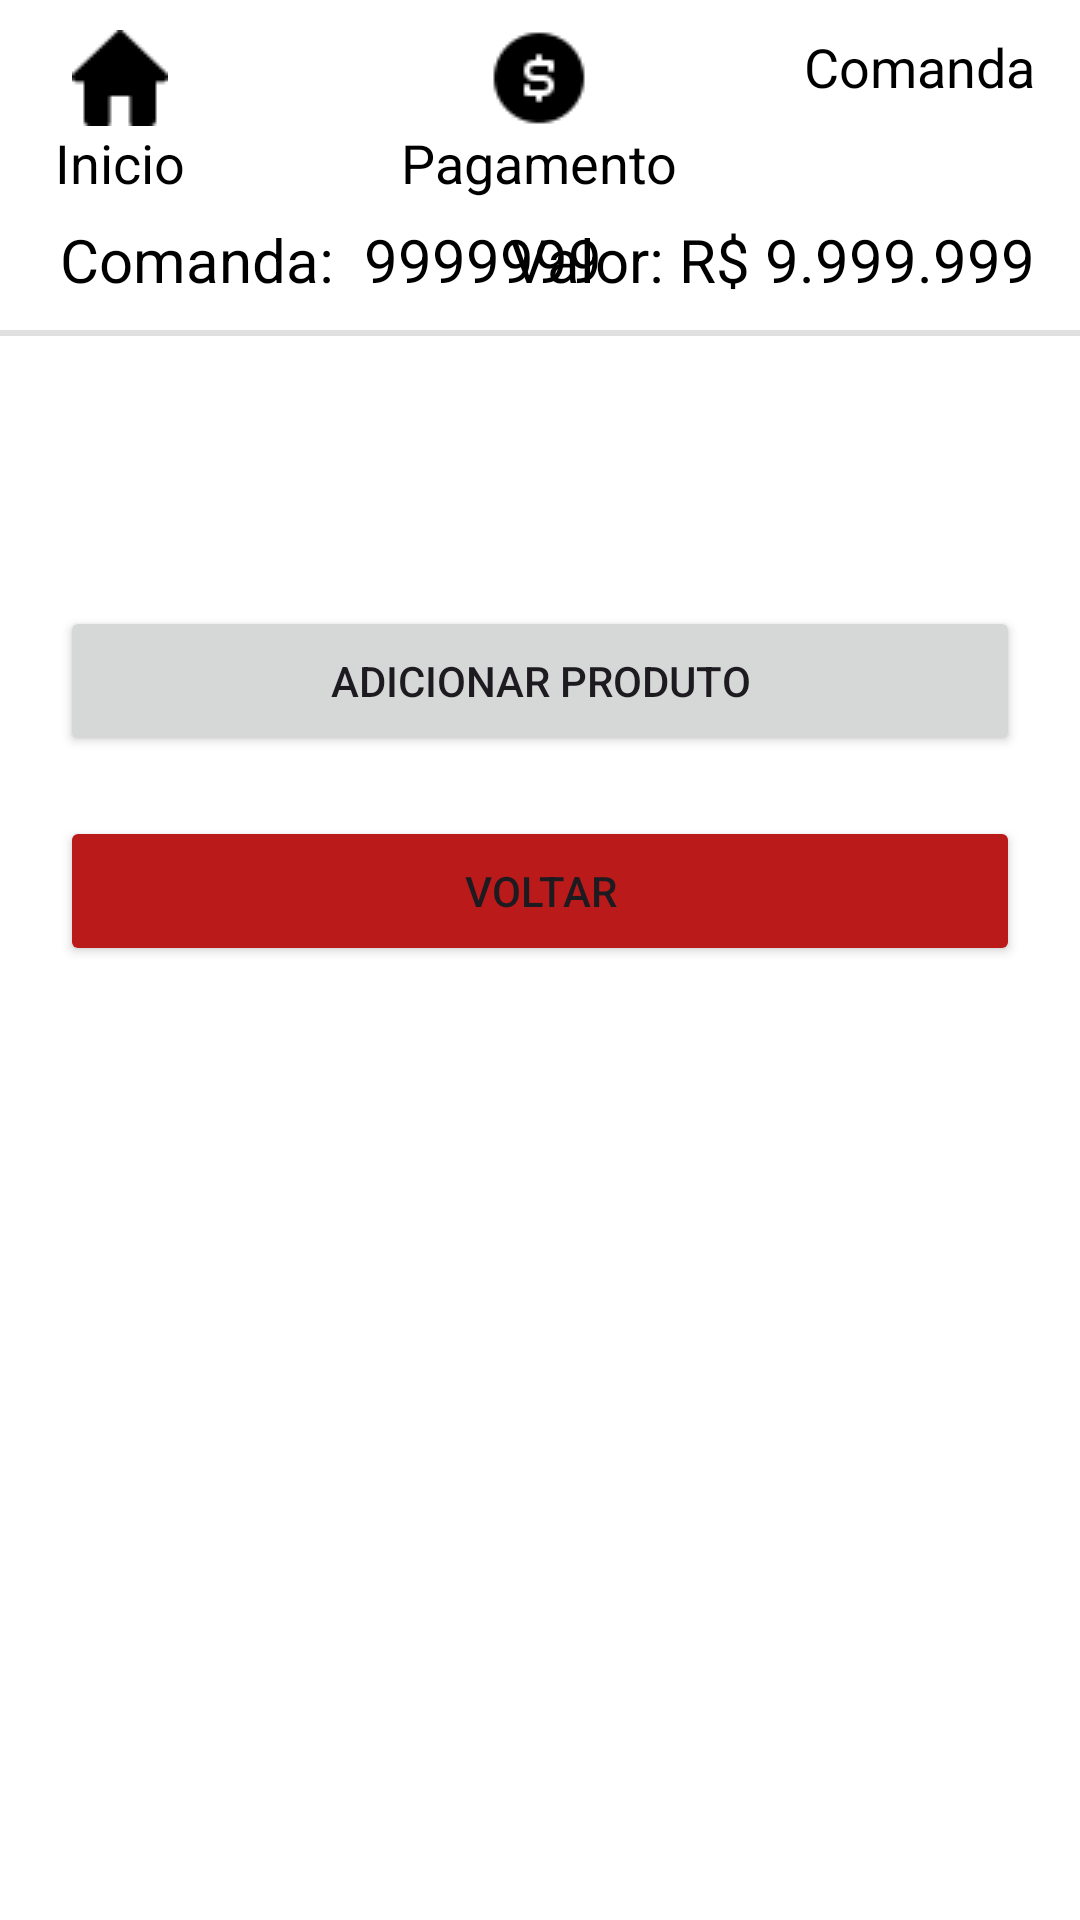

Named icons in this screenshot (1080*1920) and their bounding boxes, Rect(x1, y1, x2, y2):
casa: Rect(72, 30, 168, 126)
